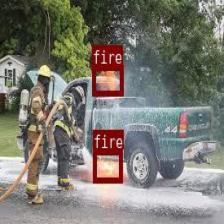fire: (92, 64, 123, 96), (92, 149, 122, 182)
